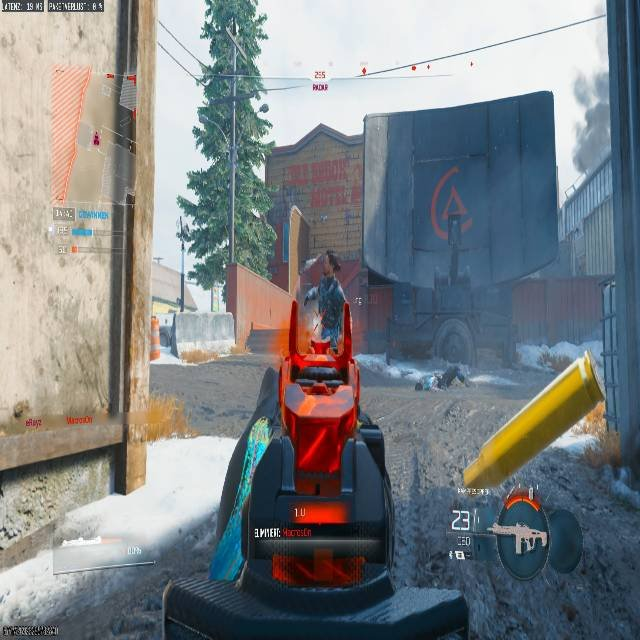player: (301, 250, 349, 350)
